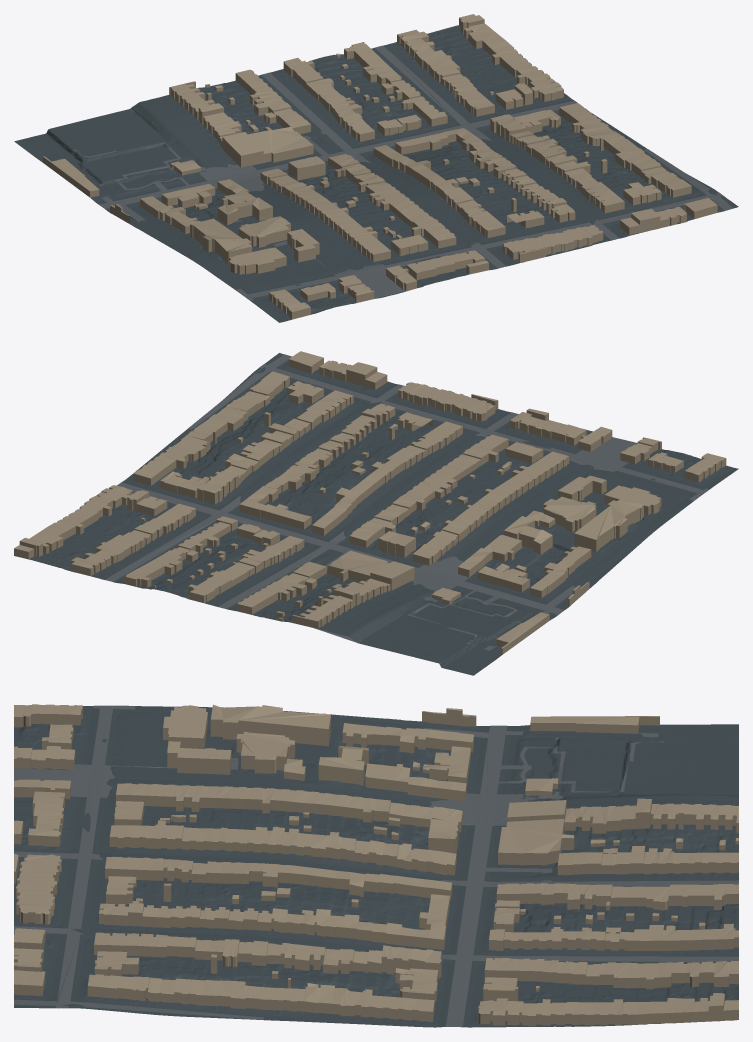
The model's file is epsg26910-1417-10877.lod0.glb.
The picture shows the model from 3 angles, top to bottom: view 1: azimuth 30°, elevation 25°; view 2: azimuth 150°, elevation 25°; view 3: azimuth 270°, elevation 25°; orthographic projection. The views are drawn at different scales.
Parts seen in each view (by area): view 1: epsg26910-1417-10877-lod0; view 2: epsg26910-1417-10877-lod0; view 3: epsg26910-1417-10877-lod0.
Boxes of the visible parts, left/top/right/bottom form: epsg26910-1417-10877-lod0: left=14, top=14, right=738, bottom=322; epsg26910-1417-10877-lod0: left=14, top=351, right=738, bottom=675; epsg26910-1417-10877-lod0: left=14, top=704, right=738, bottom=1027.
Size of the model in its own units: 384 by 22.26 by 384.
